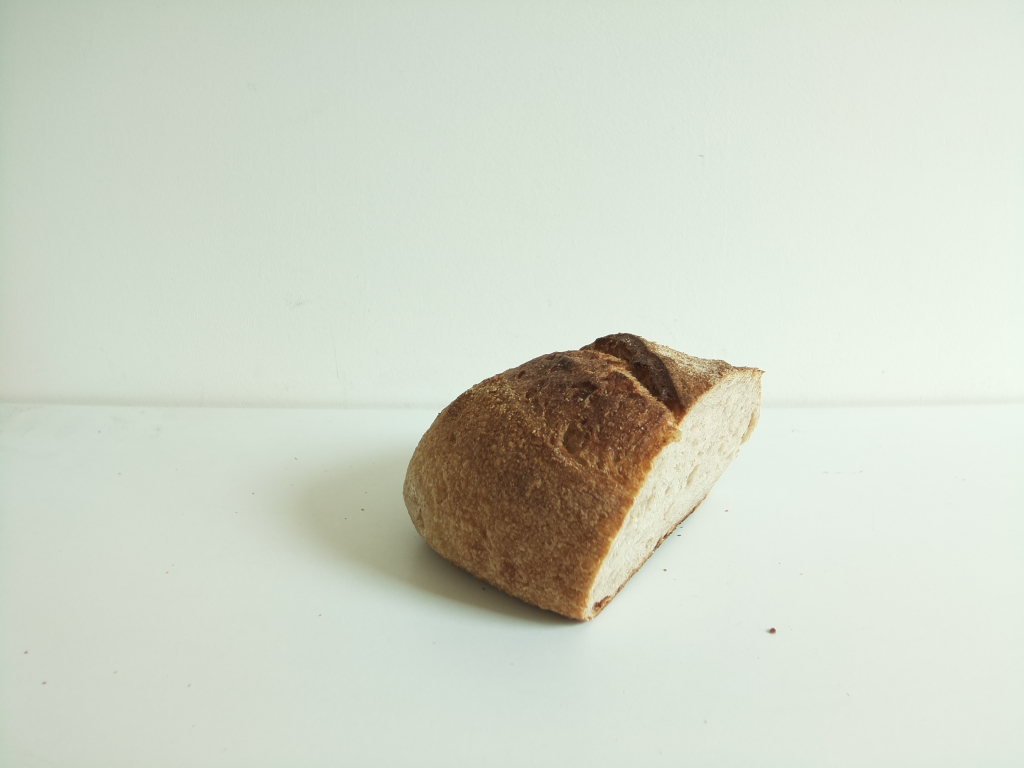bread: (398, 331, 768, 628)
